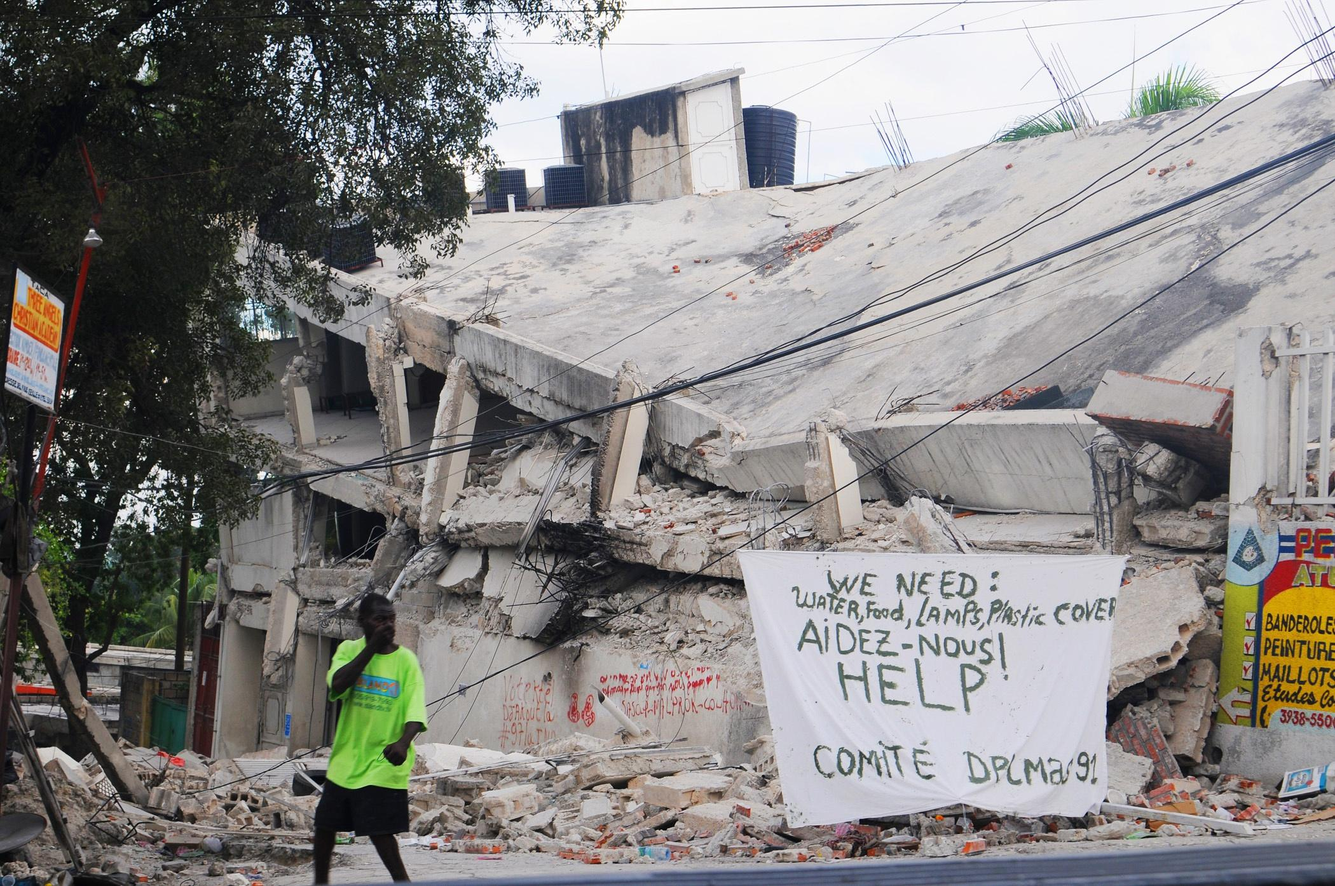victim: (299, 591, 441, 882)
